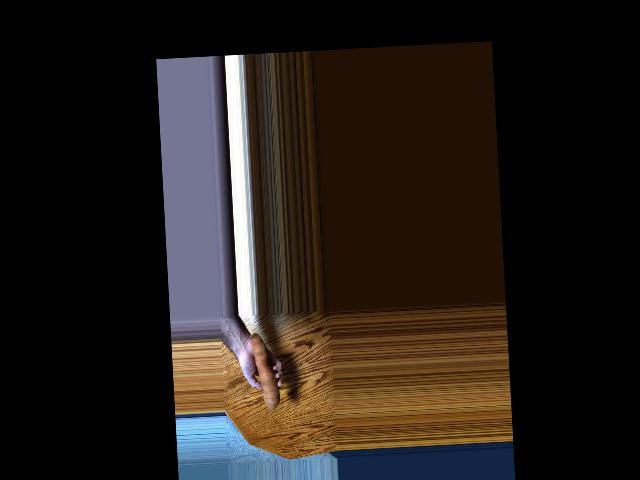sweet_potato: (247, 336, 284, 414)
